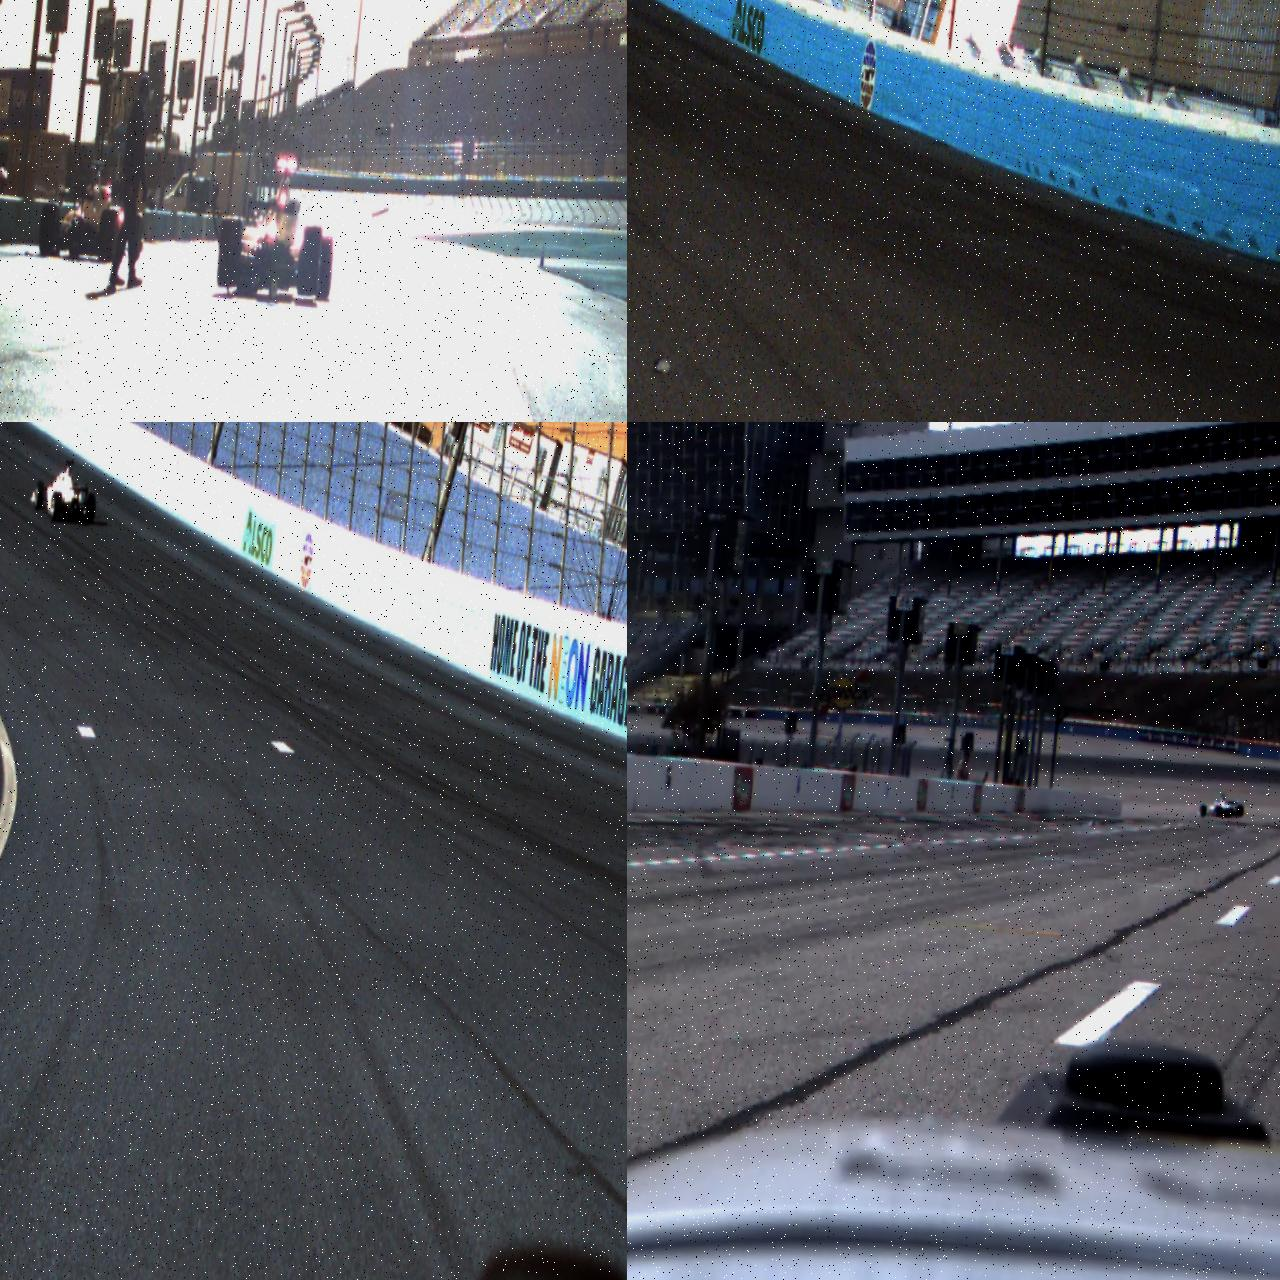AV: (214, 150, 344, 302), (37, 156, 151, 266), (28, 456, 100, 526), (1198, 791, 1246, 822)
Wheel: (216, 216, 244, 288), (298, 226, 324, 296), (96, 208, 122, 264), (315, 235, 336, 301), (38, 202, 62, 257), (50, 491, 64, 521), (85, 492, 96, 524), (34, 481, 45, 510), (1199, 802, 1207, 818), (1236, 804, 1244, 818), (1215, 806, 1222, 819)
